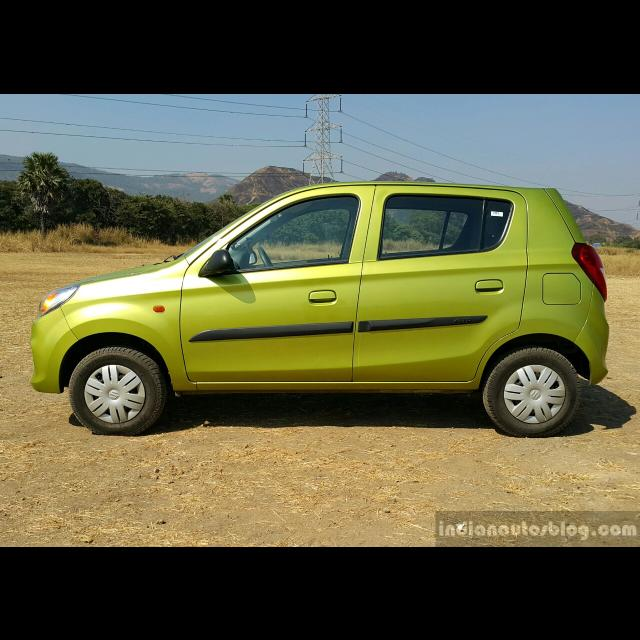number-plate: (490, 210, 502, 216)
vehicles: (28, 181, 612, 440)
